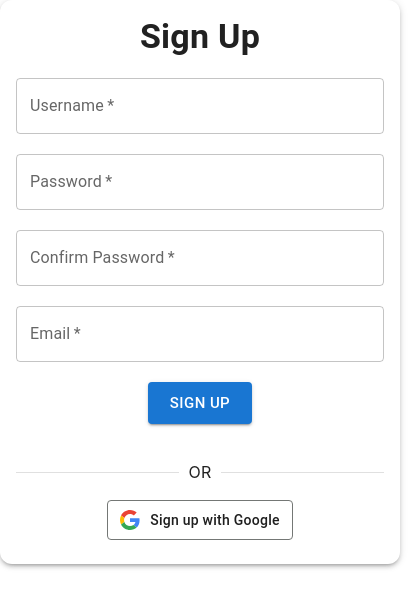
Scenario: SignupForm Component Integration › validates password mismatch
Type "newuser" into the field labelled "Username *" at (200, 106), box [16, 78, 384, 134]
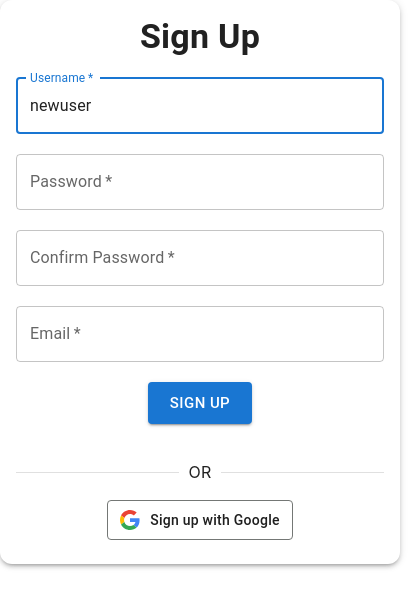
Type "Password123!" into the password field labelled "Password *" at (200, 182), box [16, 154, 384, 210]
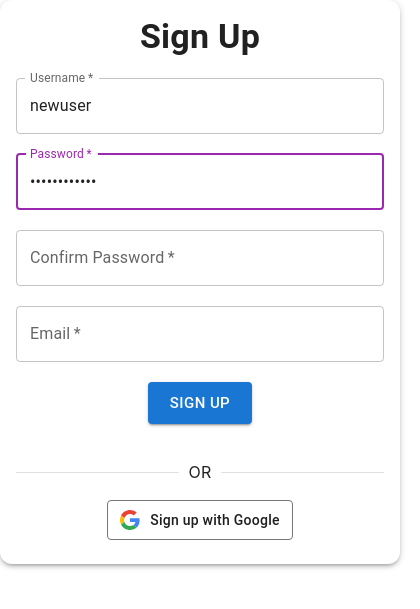
Type "mismatch" into the password field labelled "Confirm Password *" at (200, 258), box [16, 230, 384, 286]
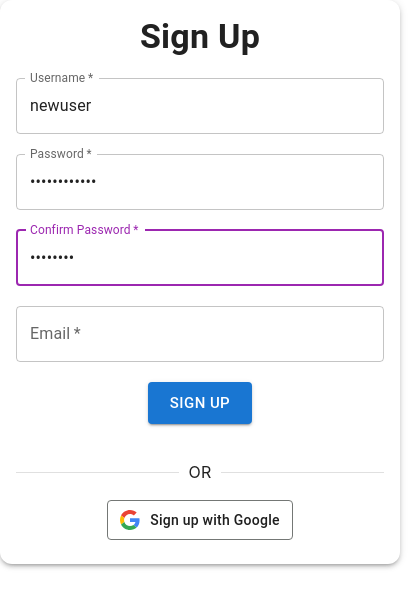
Type "test@test.com" into the field labelled "Email" at (200, 334), box [16, 306, 384, 362]
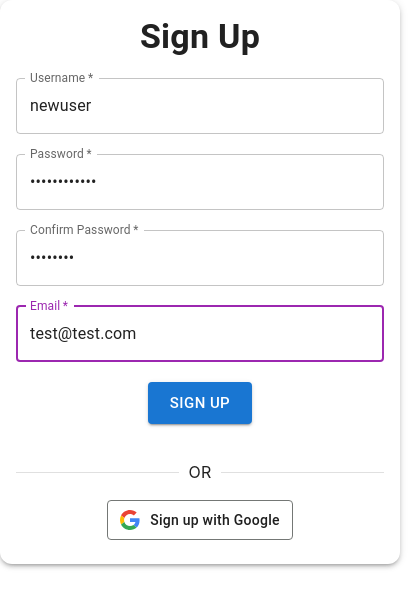
Click the button "Sign Up" at (200, 403), box [148, 382, 252, 424]
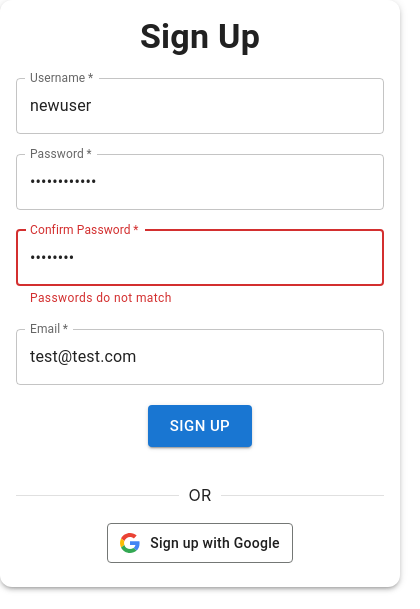
Expected: the text "Passwords do not match" is shown, [30, 291, 172, 305]
